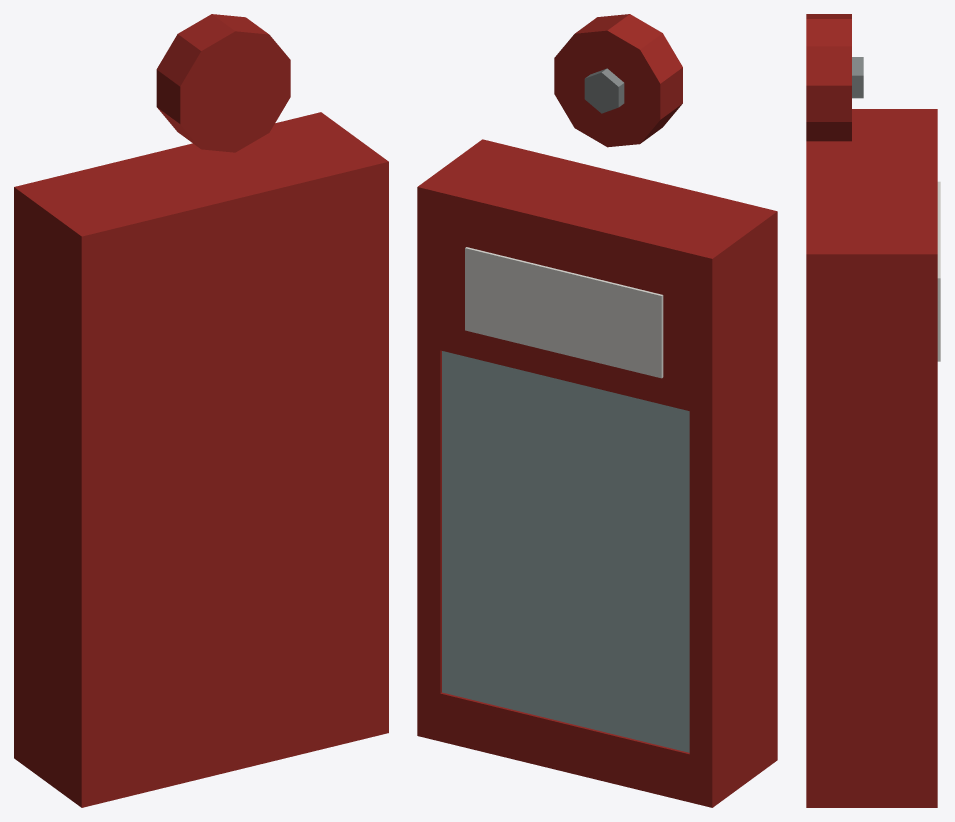
The model's file is fire_cabinet.fbx.
The picture shows the model from 3 angles, left to right: view 1: azimuth 30°, elevation 25°; view 2: azimuth 150°, elevation 25°; view 3: azimuth 270°, elevation 25°; orthographic projection. The views are drawn at different scales.
Visible parts, largest first — view 1: fire_cabinet, fire_cabinet_door; view 2: fire_cabinet_door, fire_cabinet; view 3: fire_cabinet, fire_cabinet_door.
Boxes of the visible parts, x1,y1,x2,y2 form: fire_cabinet: (18,14,388,807); fire_cabinet_door: (14,112,325,761); fire_cabinet_door: (417,183,716,807); fire_cabinet: (422,14,777,804); fire_cabinet: (806,14,928,807); fire_cabinet_door: (928,109,940,807).
Bounding box in the file's own units: 0.45 × 1.04 × 0.176.
